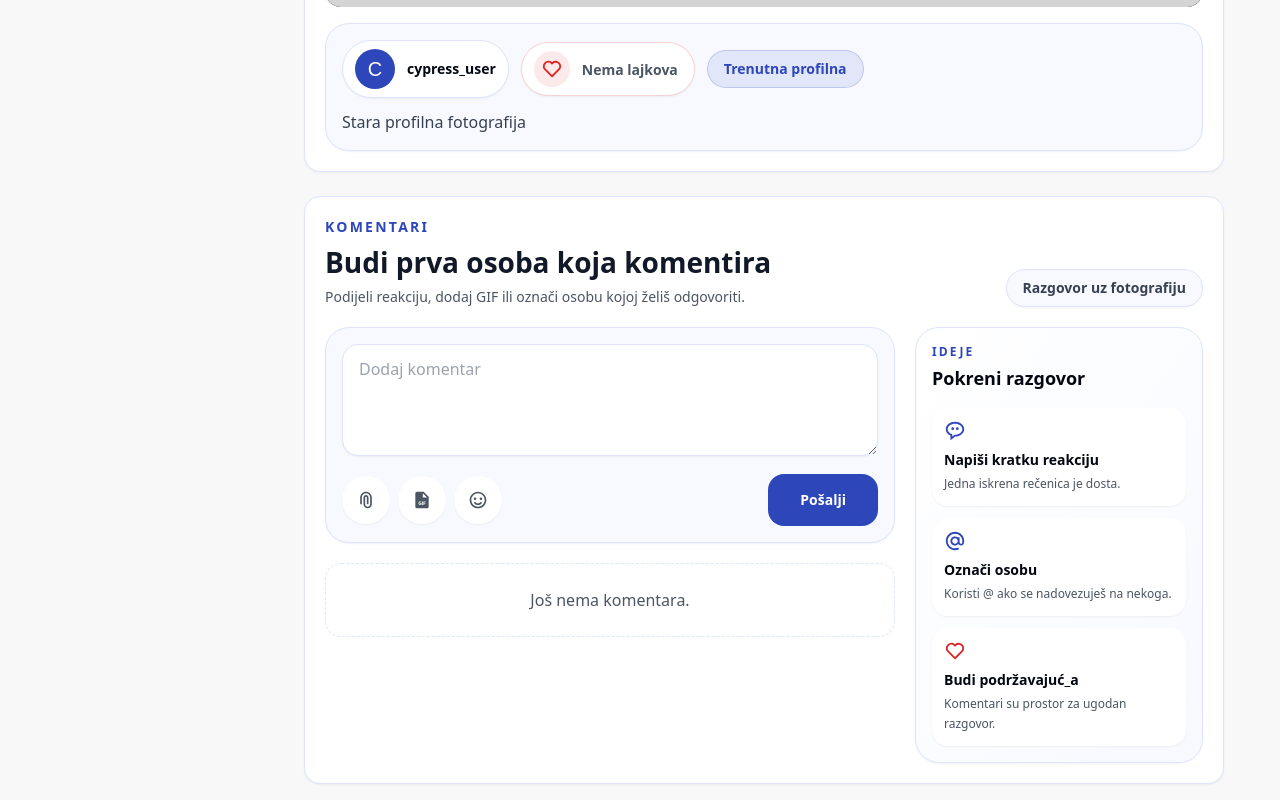
it: photo comment CRUD › creates a text comment on a photo
The width and height of the screenshot is (1280, 800).
(page scrolled)
Check: the form with test id "photo-comment-form" is shown, box [325, 327, 895, 543]
Check: the text "Još nema komentara." is shown, box [325, 563, 895, 637]
In the text box with test id "photo-comment-input": (610, 400) [342, 344, 878, 456], type "Komentar dodan iz Cypressa"
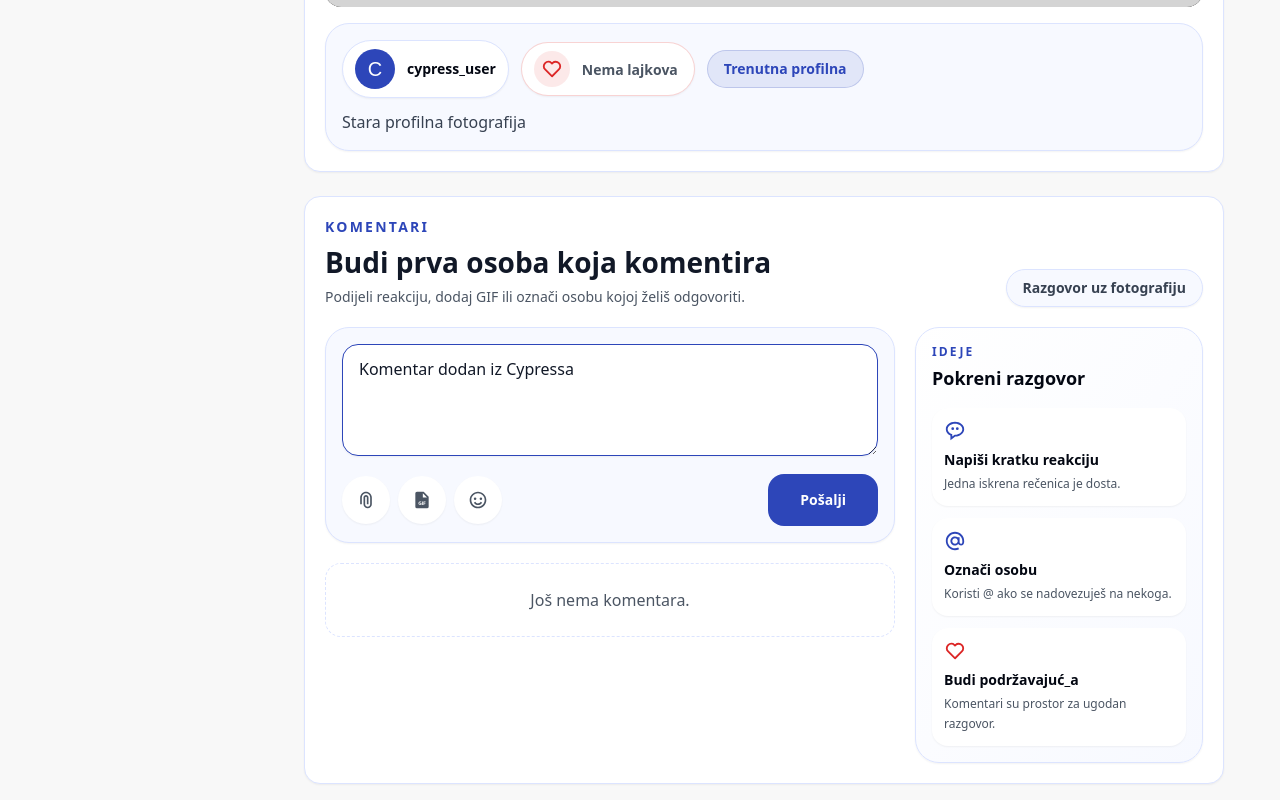
Click the button with test id "photo-comment-submit": (823, 500) [768, 474, 878, 526]
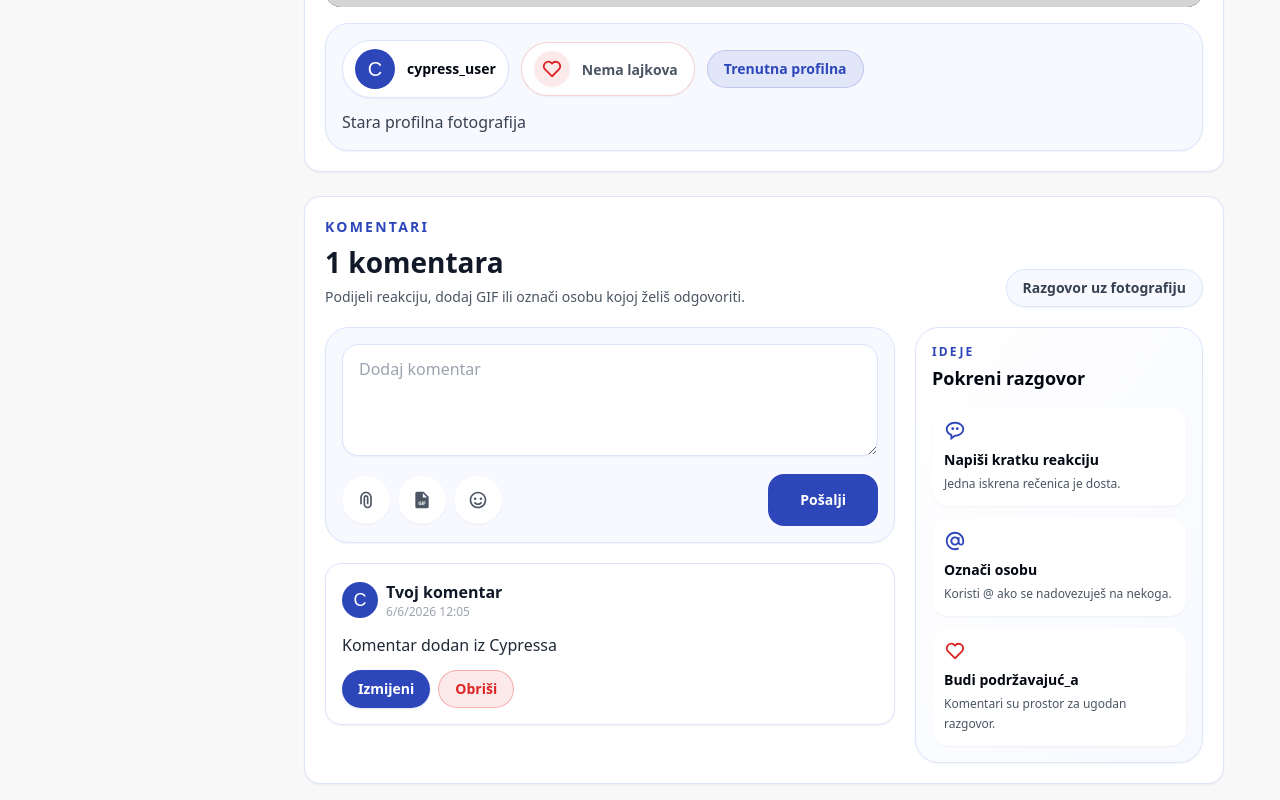
Check: the element with test id "photo-comment-card" reads "Komentar dodan iz Cypressa", box [342, 634, 557, 656]
